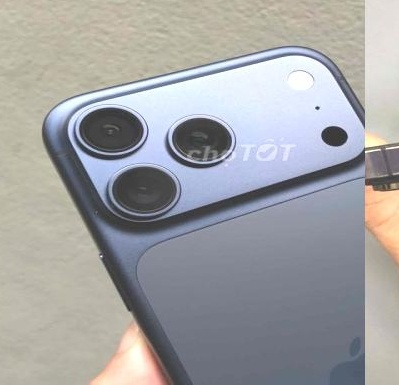scratch: (365, 99, 399, 197), (365, 155, 399, 183)
